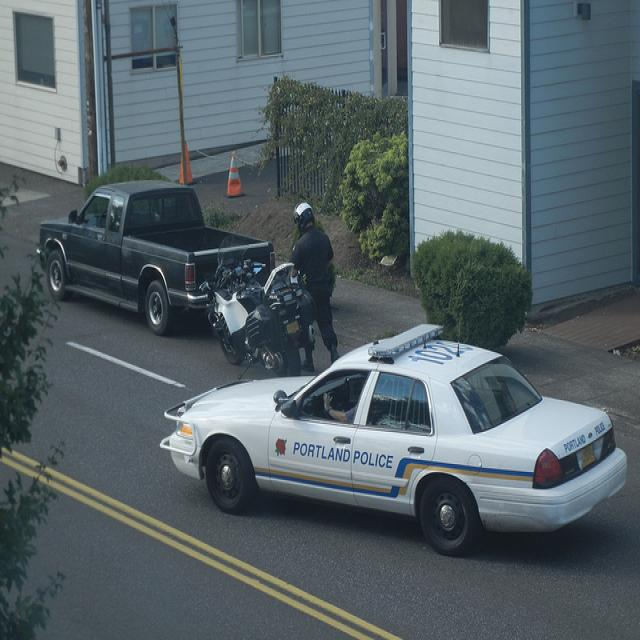motor: (198, 229, 322, 380)
